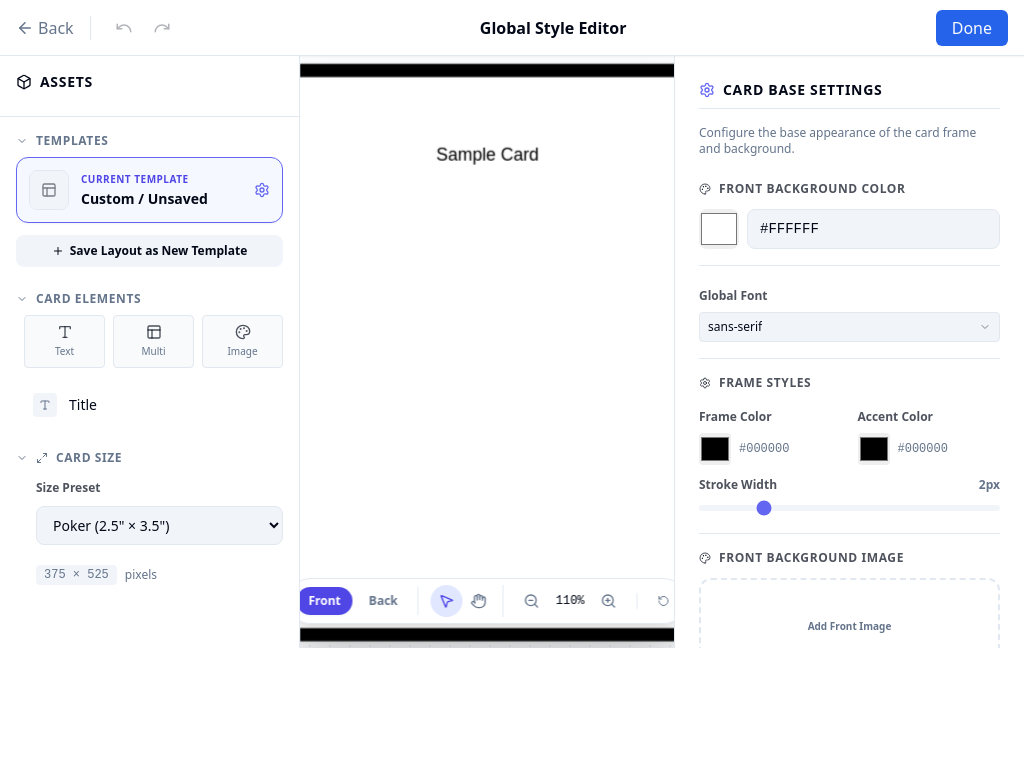
Test: GlobalStyleEditor › shows transform controls when an element is clicked
The width and height of the screenshot is (1024, 768).
Click on the title to select it
Click the text "Sample Card": (487, 153) [436, 144, 538, 163]
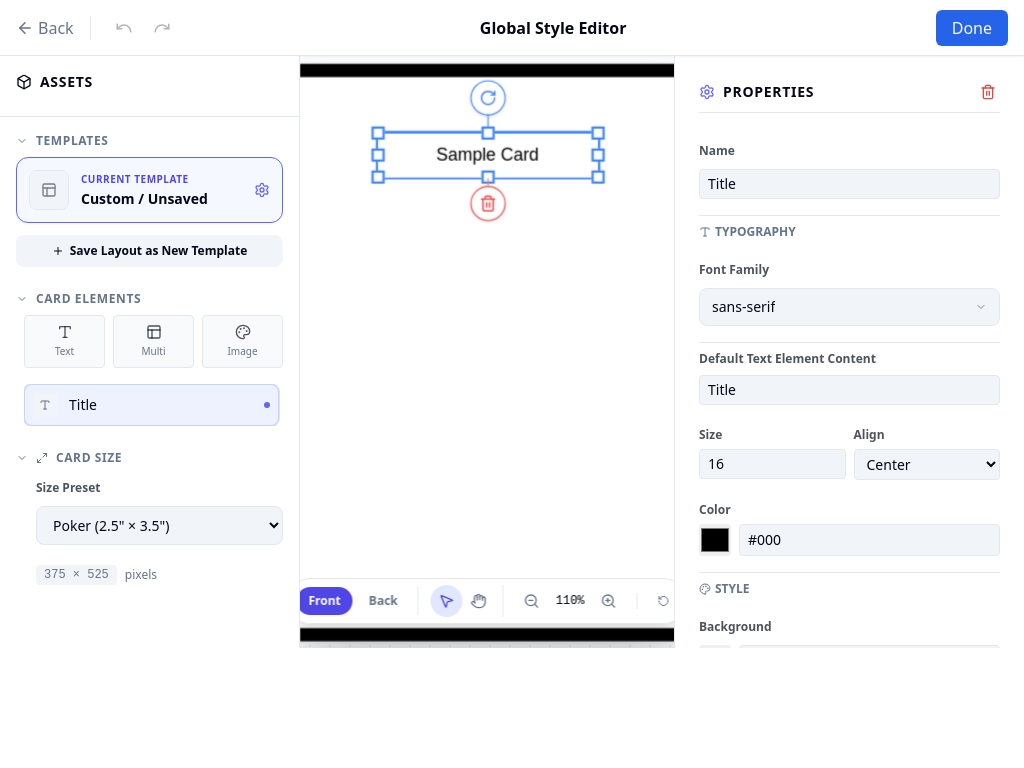
Expected: the icon with class "lucide-rotate-cw" is shown, [478, 88, 496, 106]
